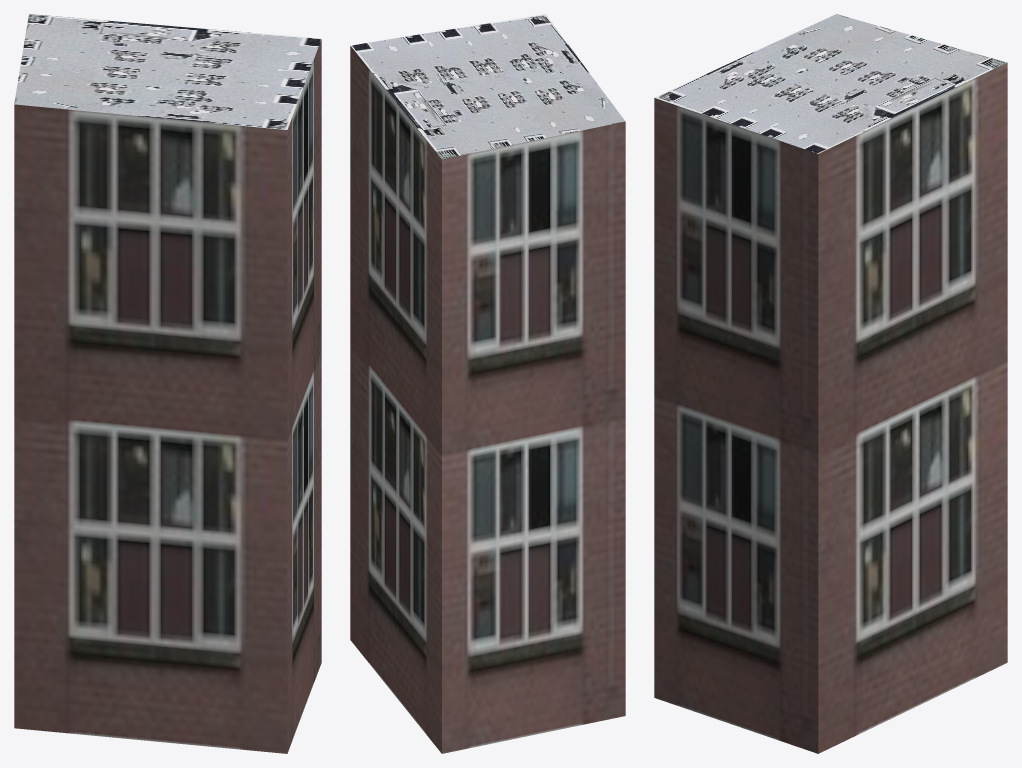
The model's file is ResTex__1300.fbx.
3 views of the same model, side by side, from view 1: azimuth 30°, elevation 25°; view 2: azimuth 150°, elevation 25°; view 3: azimuth 270°, elevation 25° (orthographic). The views are drawn at different scales.
Visible parts, largest first — view 1: CityEngineMaterial_12_m, CityEngineMaterial_4_m; view 2: CityEngineMaterial_12_m, CityEngineMaterial_4_m; view 3: CityEngineMaterial_12_m, CityEngineMaterial_4_m.
Boxes of the visible parts, x1,y1,x2,y2 form: CityEngineMaterial_12_m: (14, 39, 321, 753); CityEngineMaterial_4_m: (14, 14, 321, 129); CityEngineMaterial_12_m: (350, 46, 625, 753); CityEngineMaterial_4_m: (351, 14, 625, 159); CityEngineMaterial_12_m: (654, 63, 1007, 753); CityEngineMaterial_4_m: (654, 14, 1006, 153).
Size of the model in its own units: 3 by 6 by 3.2.
Materials: 2 (2 with a texture image).
